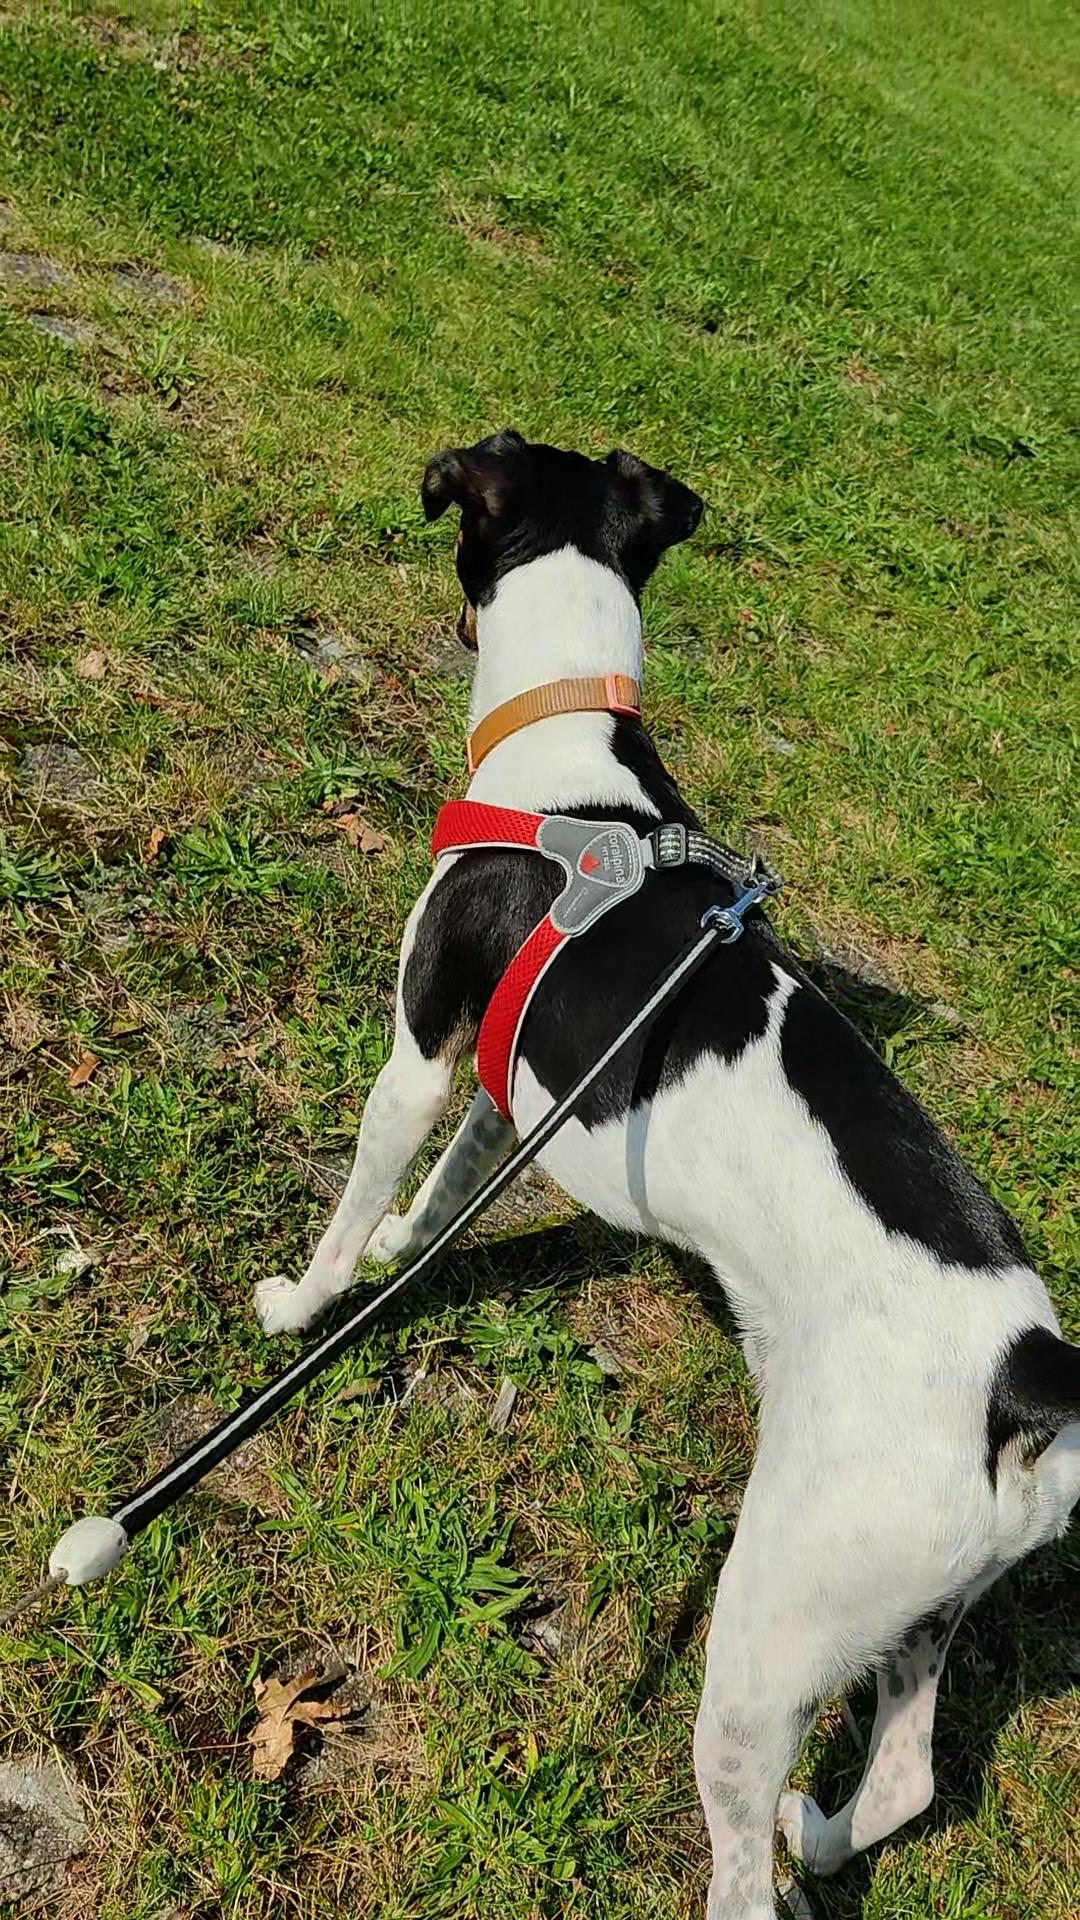Dog: (240, 413, 1079, 1919)
